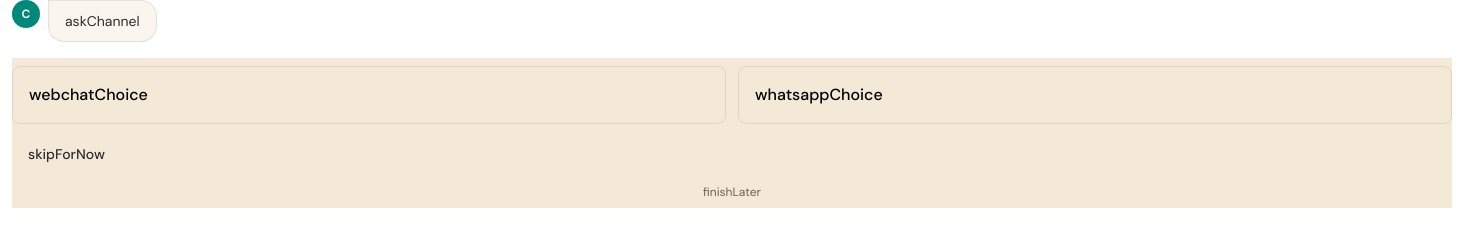
Test: ChatOnboarding › renders webchat snippet at ask_channel even when organization is null
Click the button "webchatChoice" at (88, 94), box [12, 66, 726, 124]
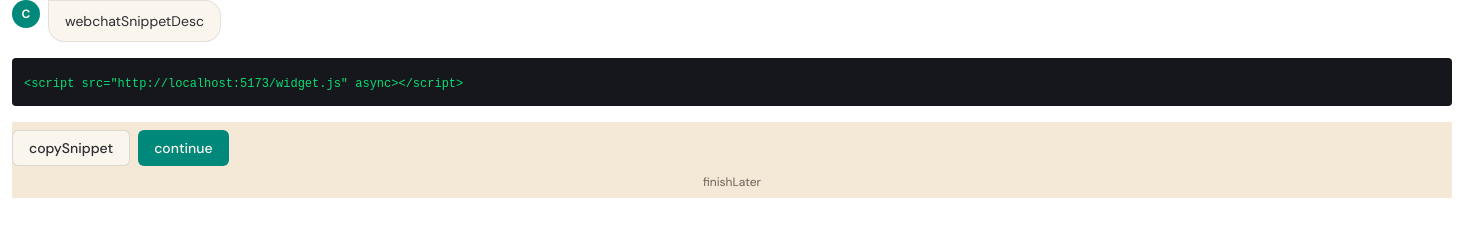
Now the text "widget.js" is shown, box [24, 77, 463, 91]
Now the button "copySnippet" is shown, box [12, 130, 130, 166]
